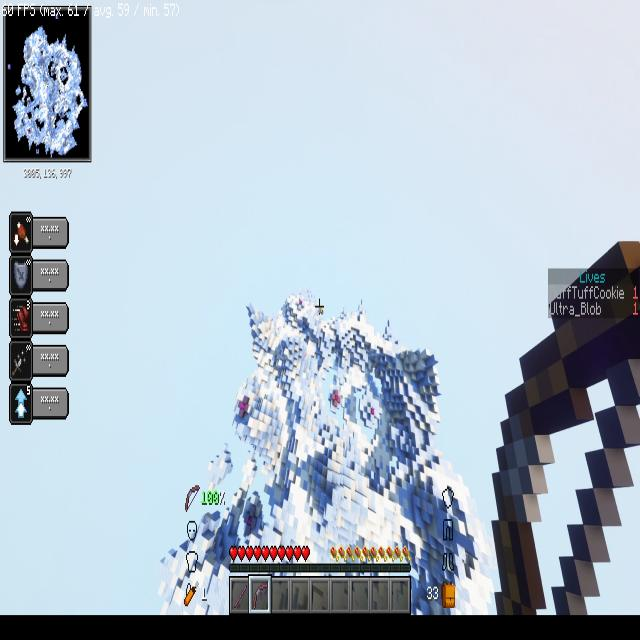Player: (317, 299, 325, 320)
